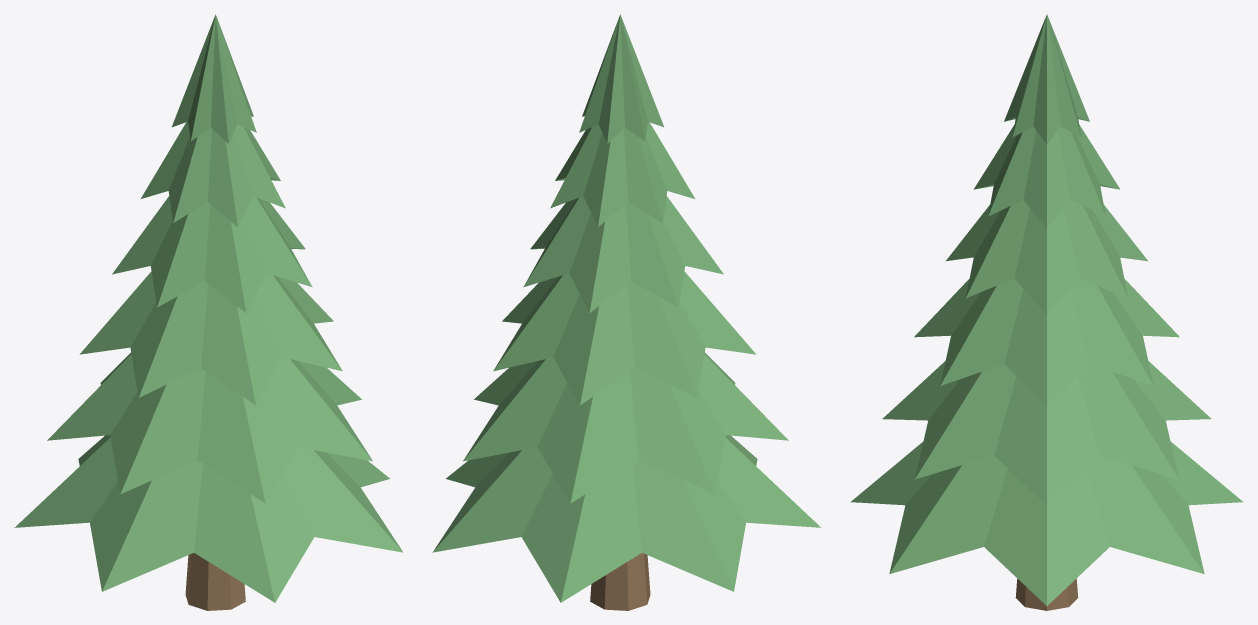
Rendered from baum_fichte.glb.
3 renders of one model, left to right at view 1: azimuth 30°, elevation 25°; view 2: azimuth 150°, elevation 25°; view 3: azimuth 270°, elevation 25°, orthographic.
Parts seen in each view (by area): view 1: Fichte_Laub, Fichte_Stamm; view 2: Fichte_Laub, Fichte_Stamm; view 3: Fichte_Laub, Fichte_Stamm.
Part boxes in pixels (x1=…): Fichte_Laub: x1=14, y1=14, x2=403, y2=602; Fichte_Stamm: x1=185, y1=553, x2=245, y2=610; Fichte_Laub: x1=432, y1=14, x2=821, y2=602; Fichte_Stamm: x1=590, y1=553, x2=650, y2=610; Fichte_Laub: x1=850, y1=14, x2=1243, y2=605; Fichte_Stamm: x1=1015, y1=579, x2=1078, y2=610.
Size of the model in its own units: 2.95 by 4.95 by 3.02.
